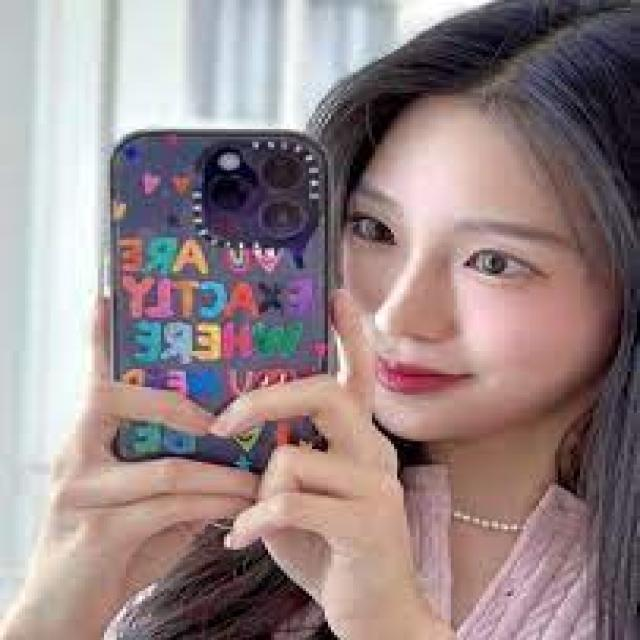Phone: (105, 125, 335, 476)
